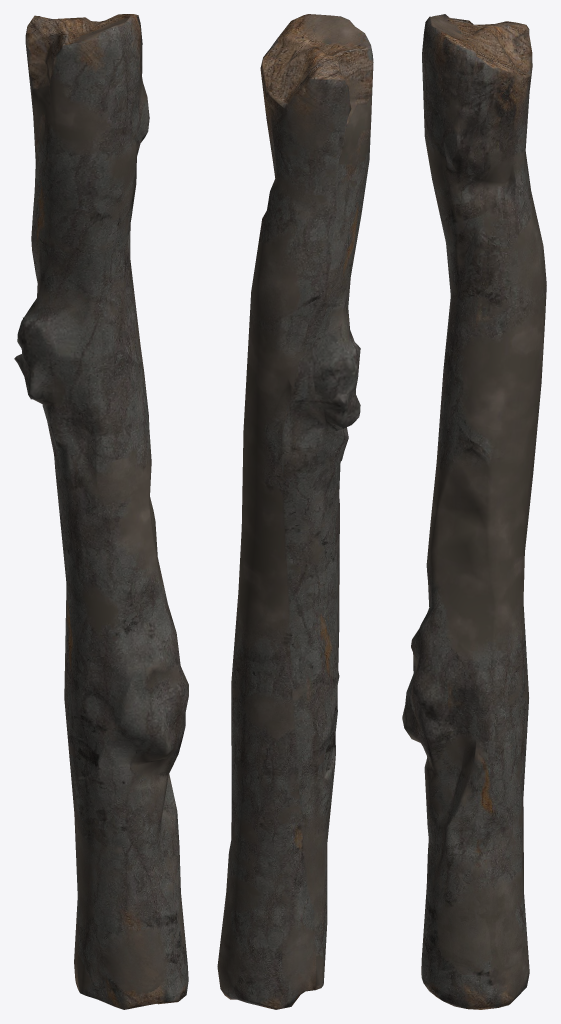
Rendered from SM_LogMed_01.glb.
3 renders of one model, left to right at view 1: azimuth 30°, elevation 25°; view 2: azimuth 150°, elevation 25°; view 3: azimuth 270°, elevation 25°, orthographic. The views are drawn at different scales.
Parts seen in each view (by area): view 1: SM_LogMed_01; view 2: SM_LogMed_01; view 3: SM_LogMed_01.
Part boxes in pixels (x1=…): SM_LogMed_01: x1=14, y1=14, x2=188, y2=1009; SM_LogMed_01: x1=217, y1=14, x2=373, y2=1009; SM_LogMed_01: x1=402, y1=14, x2=546, y2=1009.
Size of the model in its own units: 0.3202 by 2.04 by 0.2806.
Materials: 1 (1 with a texture image).
